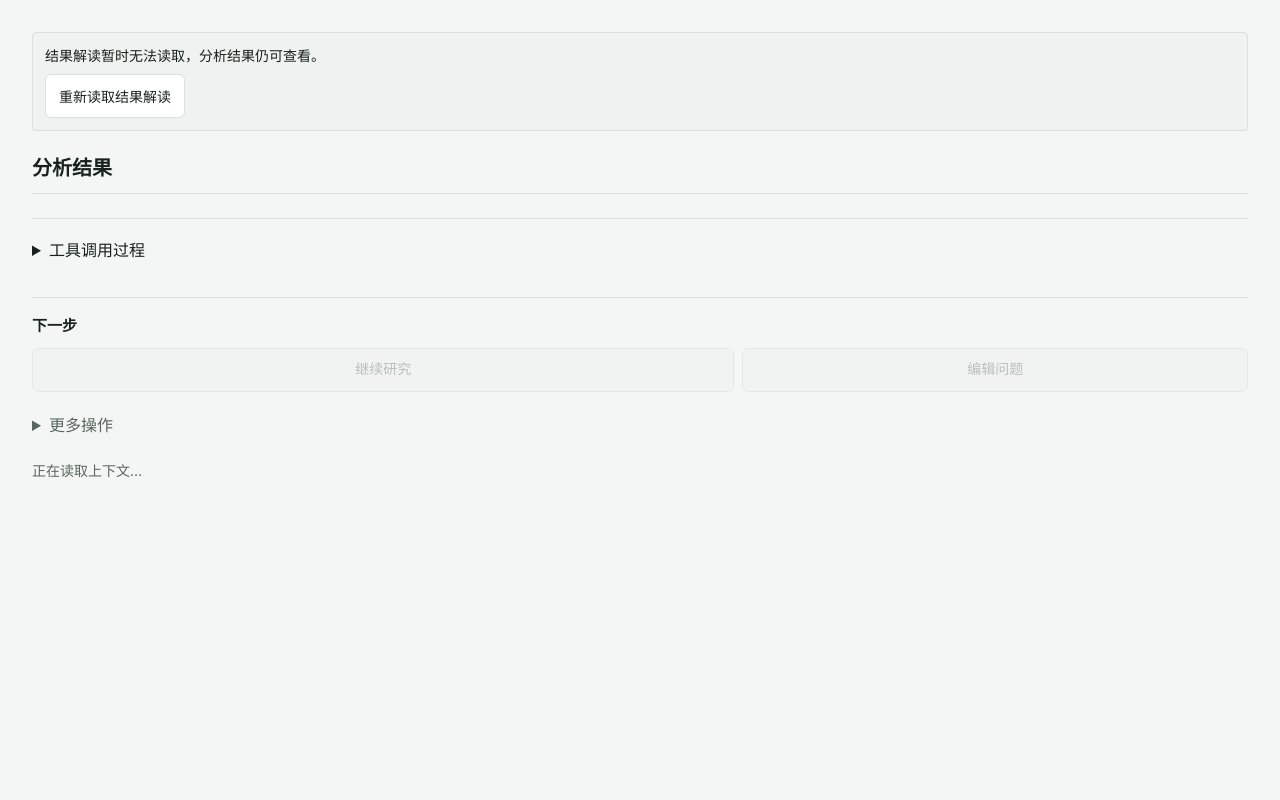
Test: Agent2ScientificPresentation › does not offer a mutation while the saved context is unknown
Step 1. Click the heading "更多操作" → (81, 425), box x1=49 y1=415 x2=113 y2=435
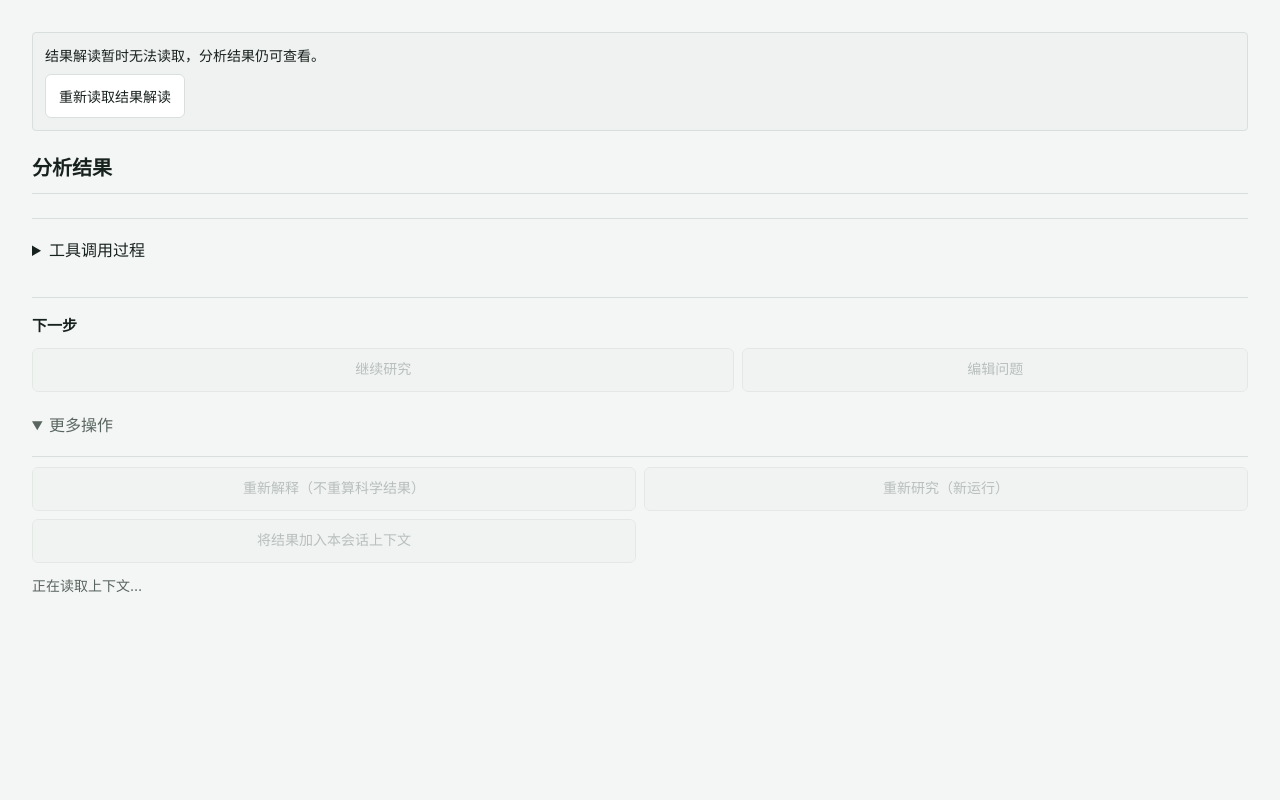
Now the button "将结果加入本会话上下文" is disabled
Step 2. Click the button "将结果加入本会话上下文" → (334, 540), box x1=32 y1=518 x2=636 y2=562
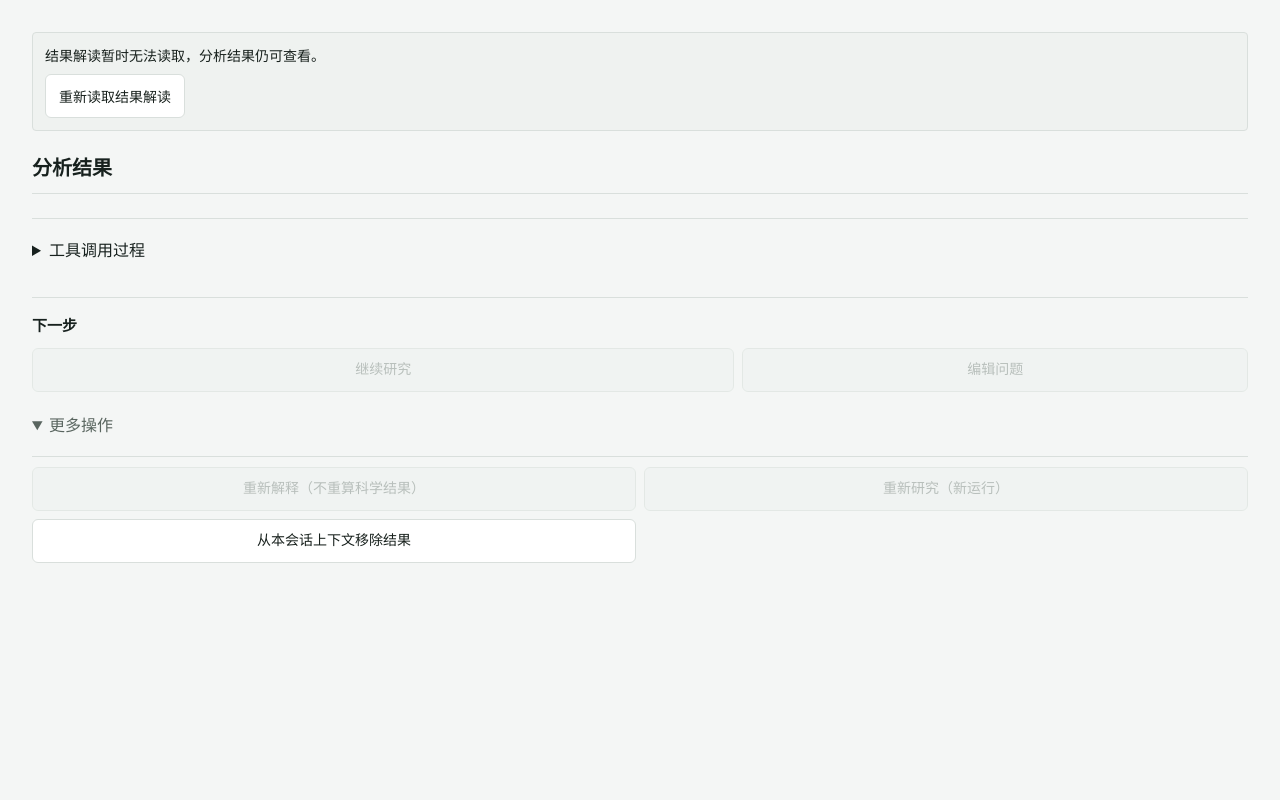
Now the button "从本会话上下文移除结果" is enabled, box x1=32 y1=518 x2=636 y2=562
